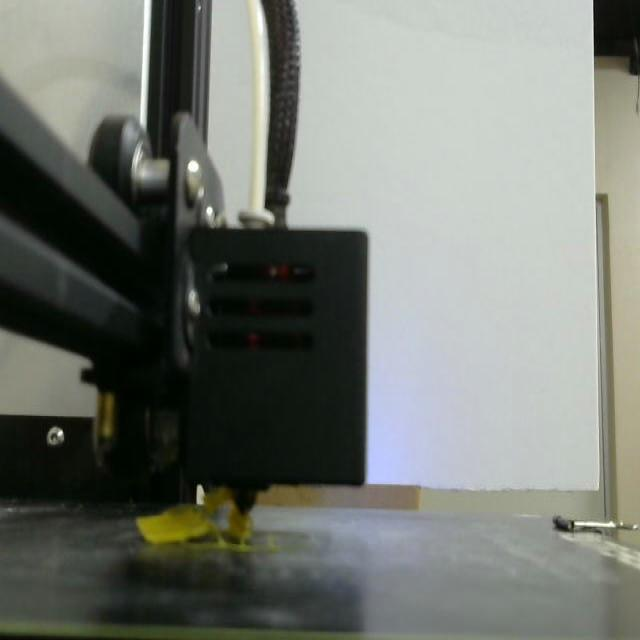spaghetti: (136, 487, 256, 545)
